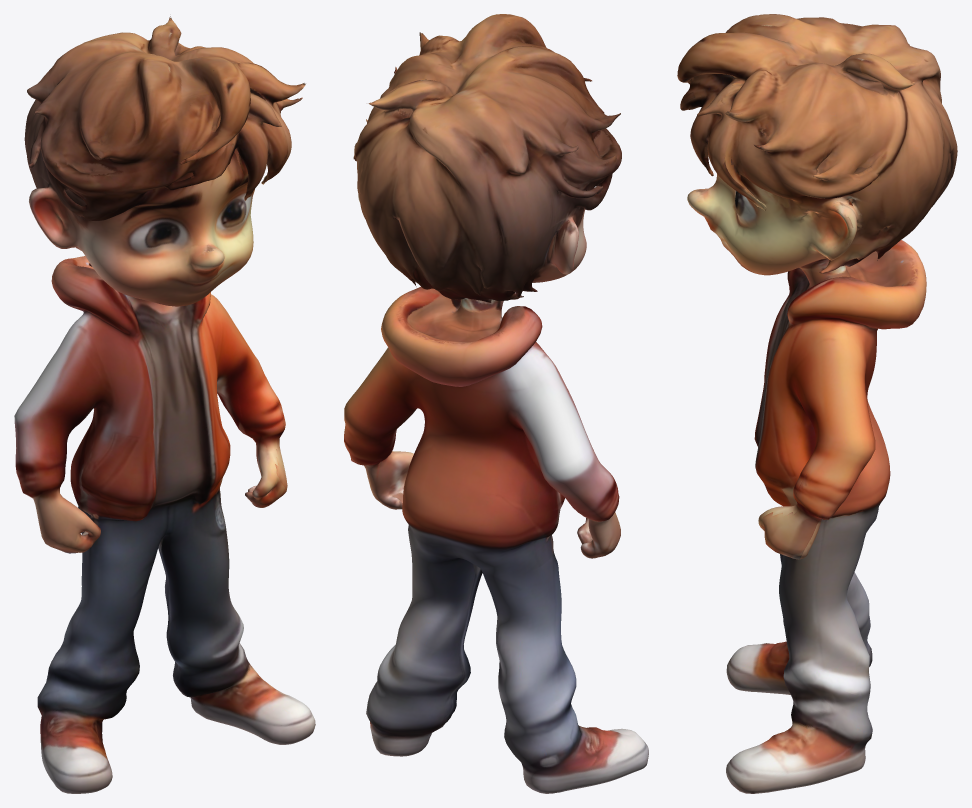
Rendered from avatar.glb.
3 views of the same model, side by side, from view 1: azimuth 30°, elevation 25°; view 2: azimuth 150°, elevation 25°; view 3: azimuth 270°, elevation 25° (orthographic). The views are drawn at different scales.
Bounding box in the file's own units: 0.7722 × 2 × 0.7122.
1 material, 1 textured.
